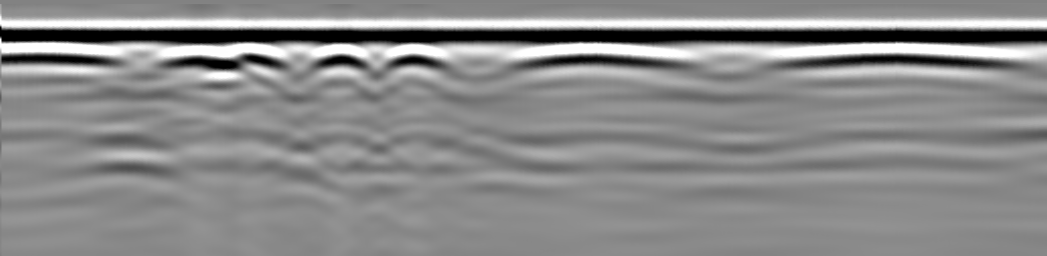steel: (778, 43, 1025, 70), (514, 44, 687, 70), (164, 45, 292, 69), (2, 43, 122, 66), (310, 45, 375, 69), (385, 46, 444, 71)
